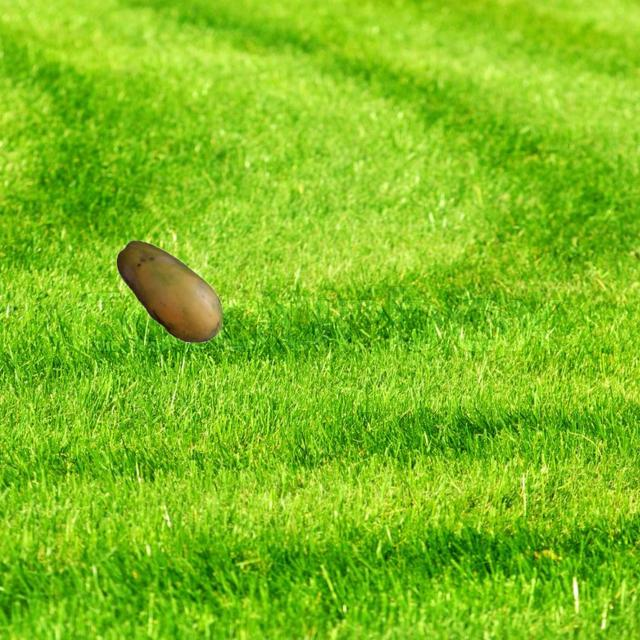Pepaya rippen: (112, 238, 238, 346)
